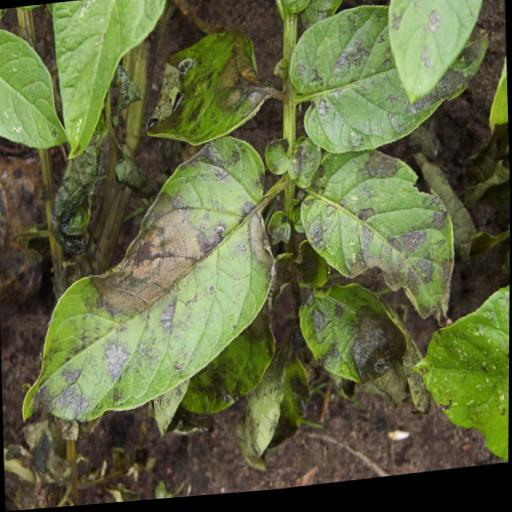Early Blight: (12, 130, 285, 442), (289, 0, 493, 165), (299, 143, 463, 346), (296, 279, 435, 436), (141, 25, 272, 159)
